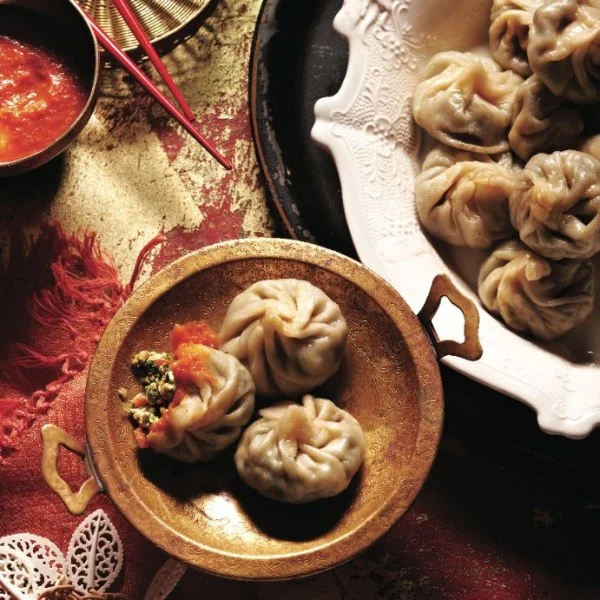momo: (210, 277, 350, 393), (236, 403, 360, 506), (143, 353, 250, 467), (406, 59, 533, 150), (487, 0, 600, 100), (409, 151, 521, 246), (489, 240, 593, 339), (513, 150, 600, 250)
